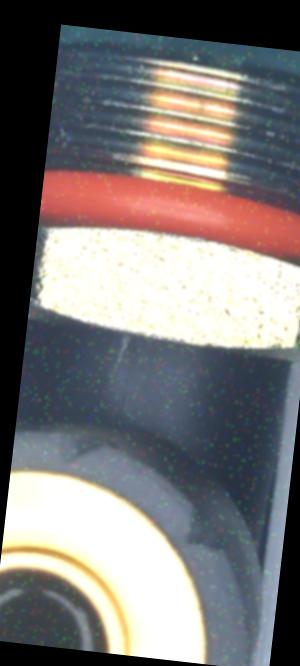bump: (176, 502, 236, 558), (45, 427, 113, 470)
joint line: (108, 375, 137, 423)
white mark: (108, 333, 129, 368)
